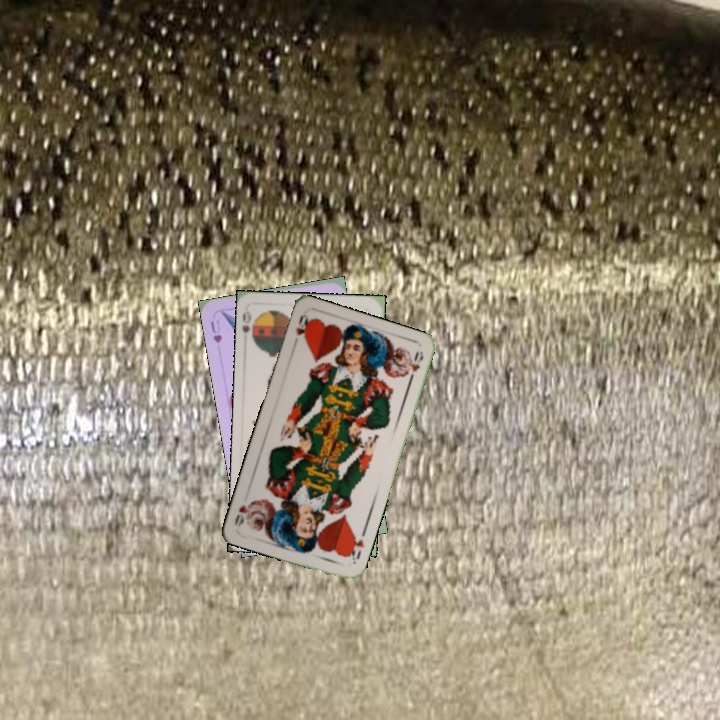HO: (291, 310, 314, 349), (344, 531, 367, 566)
HU: (207, 316, 224, 345)
SO: (239, 307, 259, 347)
